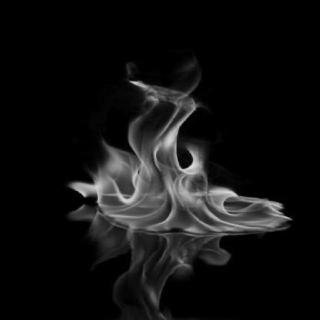Fire: (59, 81, 282, 315)
